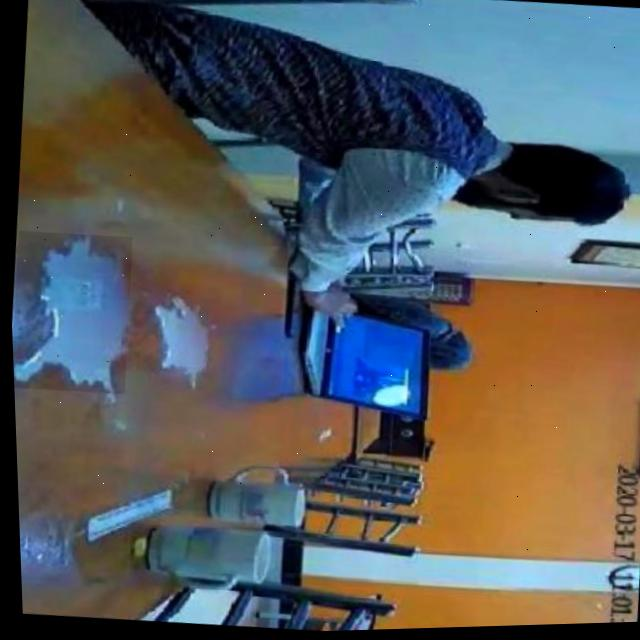spillage: (11, 235, 124, 393), (150, 299, 203, 373)
